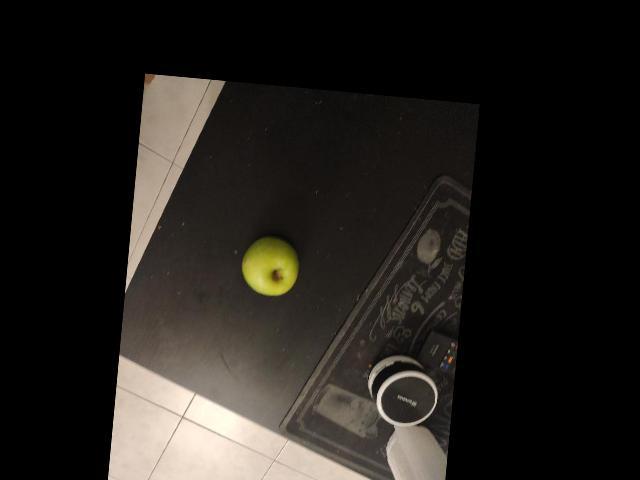apple: (142, 348, 227, 422)
